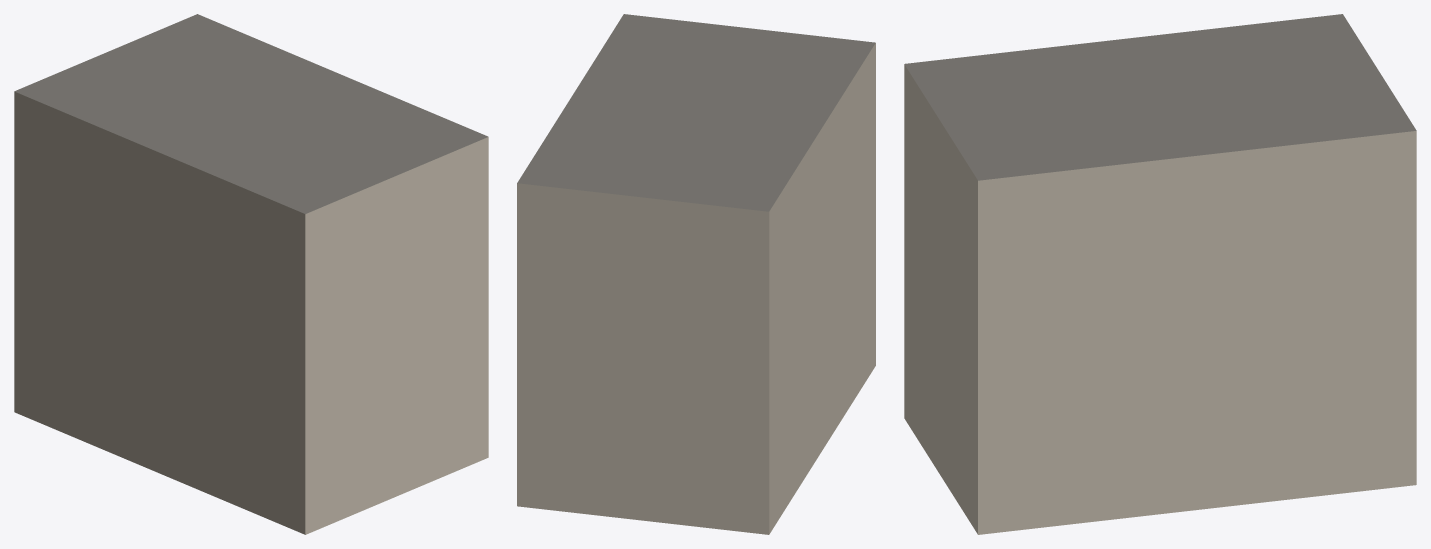
The picture shows the model from 3 angles, left to right: view 1: azimuth 30°, elevation 25°; view 2: azimuth 150°, elevation 25°; view 3: azimuth 270°, elevation 25°; orthographic projection. The views are drawn at different scales.
Parts seen in each view (by area): view 1: HP-w1197685191; view 2: HP-w1197685191; view 3: HP-w1197685191.
Boxes of the visible parts, <box> form: HP-w1197685191: <box>14,14,488,534</box>; HP-w1197685191: <box>517,14,875,534</box>; HP-w1197685191: <box>904,14,1416,534</box>.
Bounding box in the file's own units: 18.17 × 18 × 23.6.
